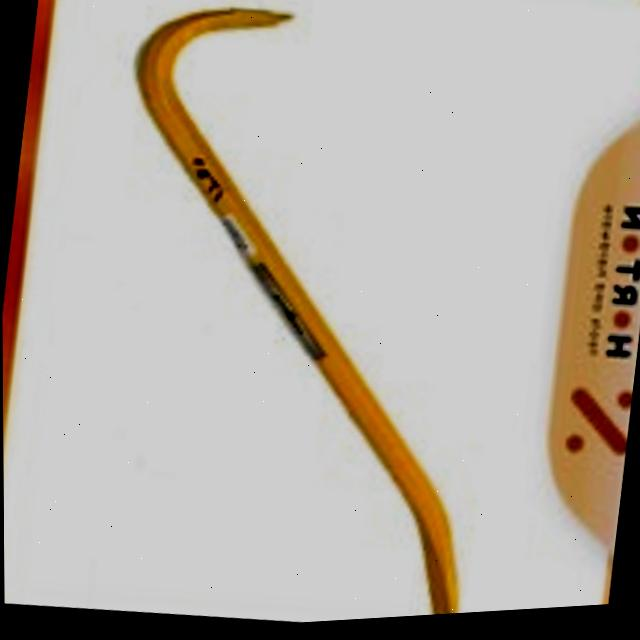crow bar: (139, 11, 455, 620)
